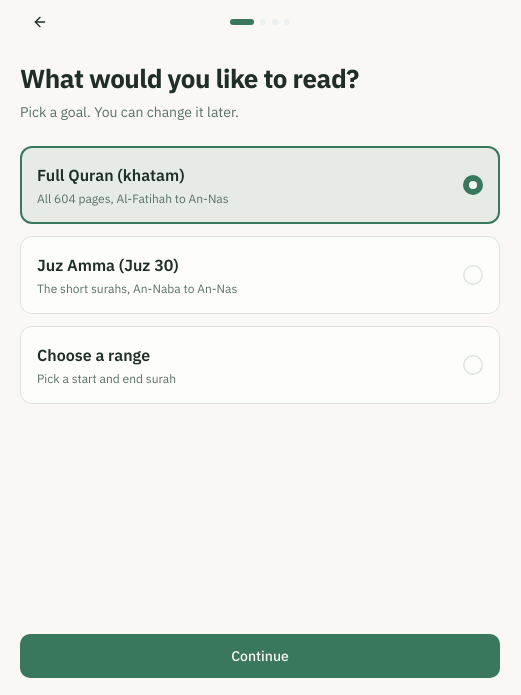
Test case: OnboardingFlow › asks for a date when picking one
Click the button "Continue".
click(260, 656)  # box [20,634,500,678]
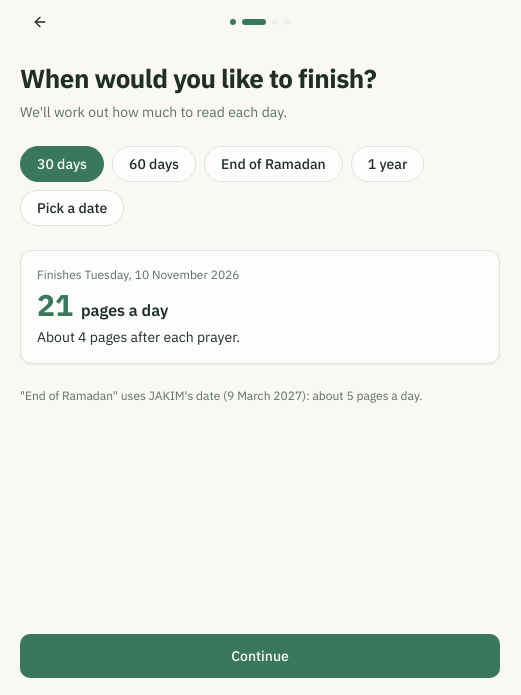
Click the radio button labelled "Pick a date".
click(72, 208)  # box [20,190,124,226]
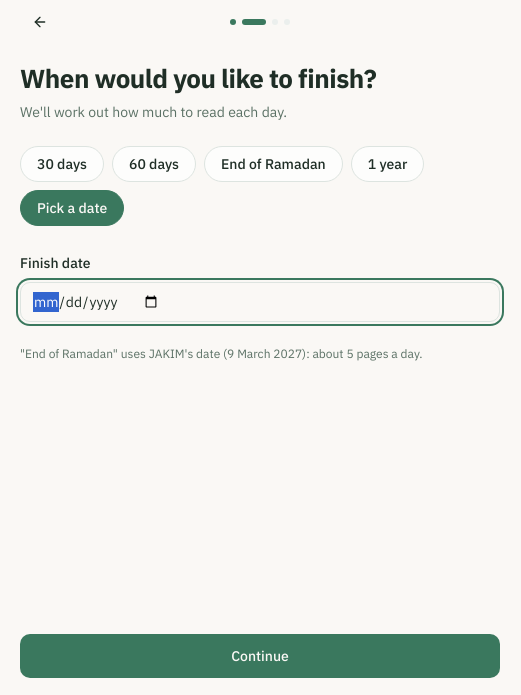
Click the button "Continue".
click(260, 656)  # box [20,634,500,678]
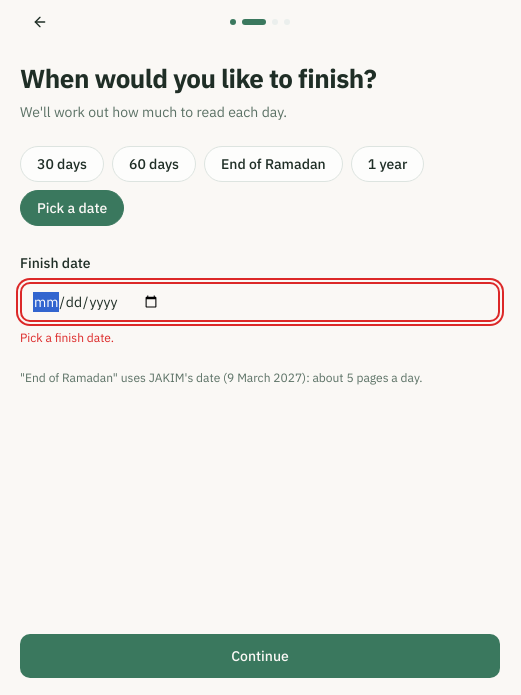
Expected: the heading "When would you like to finish?" is shown, [20,61,376,95]
Expected: the message reads "Pick a finish date.", [20,330,114,345]
